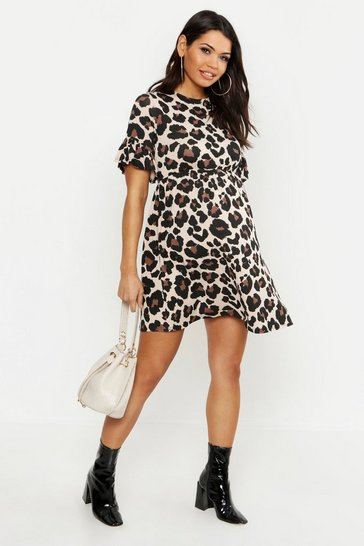C_dress: (104, 105, 295, 335)
